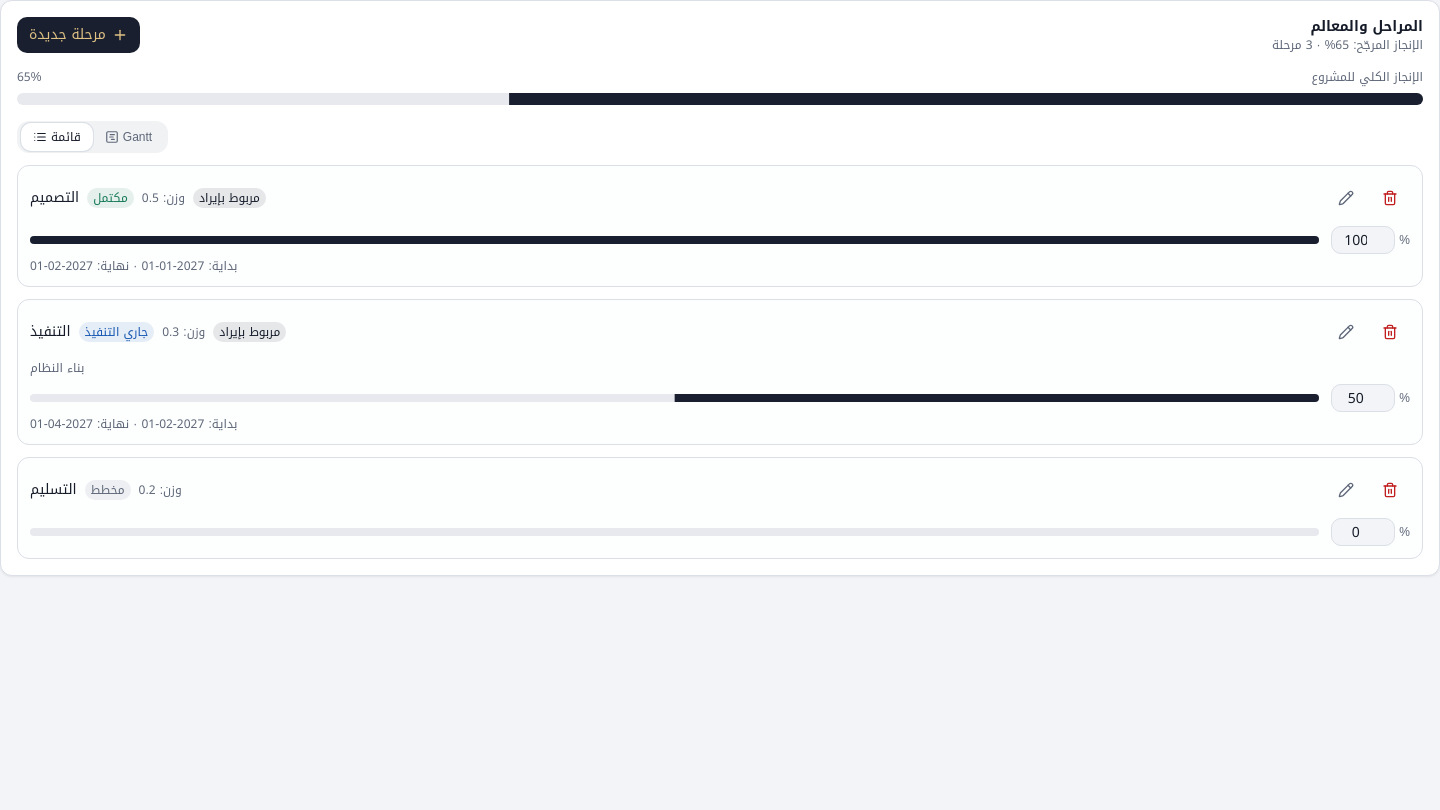
Test: editing a milestone › saves the cleared fields as cleared, keeps the row order, and moves the project percent
Later steps or results of the test are not shown.
Click the button named "تعديل المرحلة" in the row of "0.3" at (1346, 332), box 1326,312 -> 1366,352
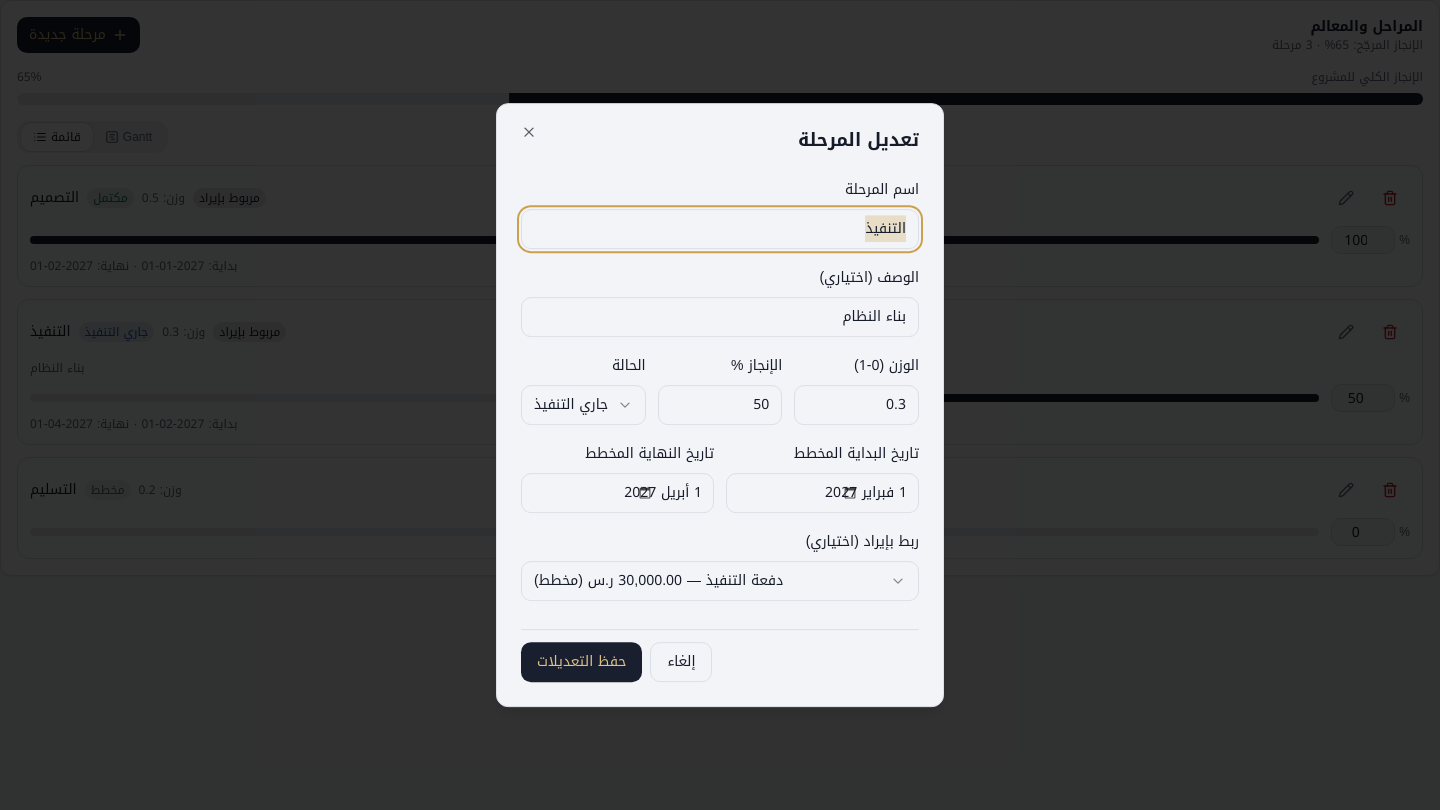
Now the field with placeholder "مثال: مرحلة التصميم" holds "التنفيذ", box 521,209 -> 919,249
